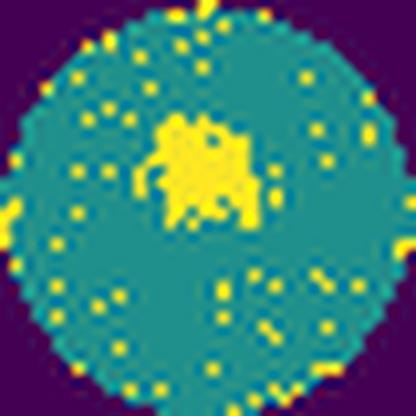Center: (136, 111, 263, 237)
